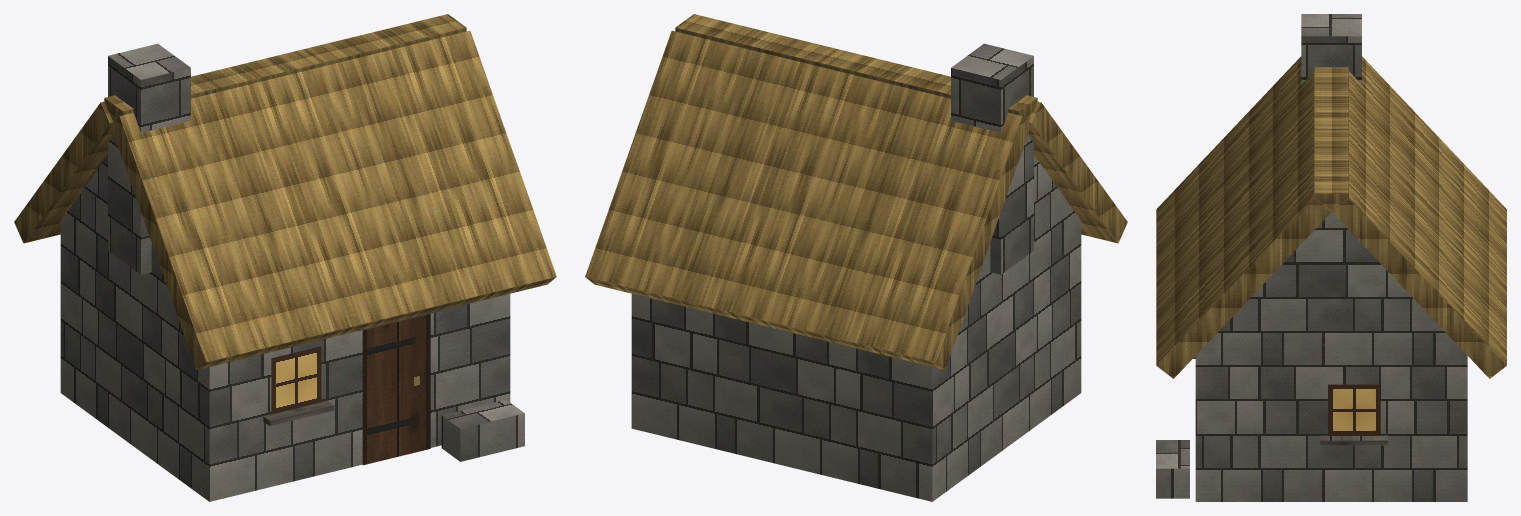
File: casa_piedra_noche.obj
The picture shows the model from 3 angles, left to right: view 1: azimuth 30°, elevation 25°; view 2: azimuth 150°, elevation 25°; view 3: azimuth 270°, elevation 25°; orthographic projection. The views are drawn at different scales.
Parts seen in each view (by area): view 1: casa_piedra_noche; view 2: casa_piedra_noche; view 3: casa_piedra_noche.
Part boxes in pixels (bbox=[...]): casa_piedra_noche: bbox=[14, 14, 556, 501]; casa_piedra_noche: bbox=[585, 14, 1127, 501]; casa_piedra_noche: bbox=[1156, 14, 1506, 501].
Size of the model in its own units: 4.9 by 5.1 by 4.65.
Materials: 5 (5 with a texture image).
